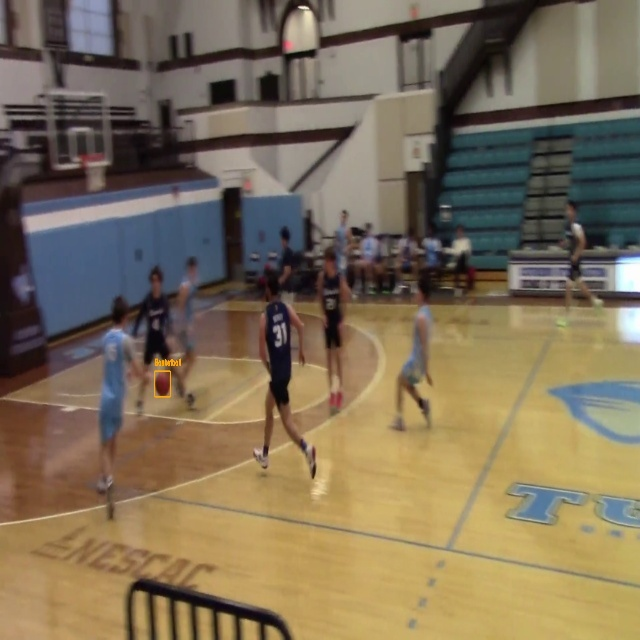Basketball: (155, 371, 170, 397)
